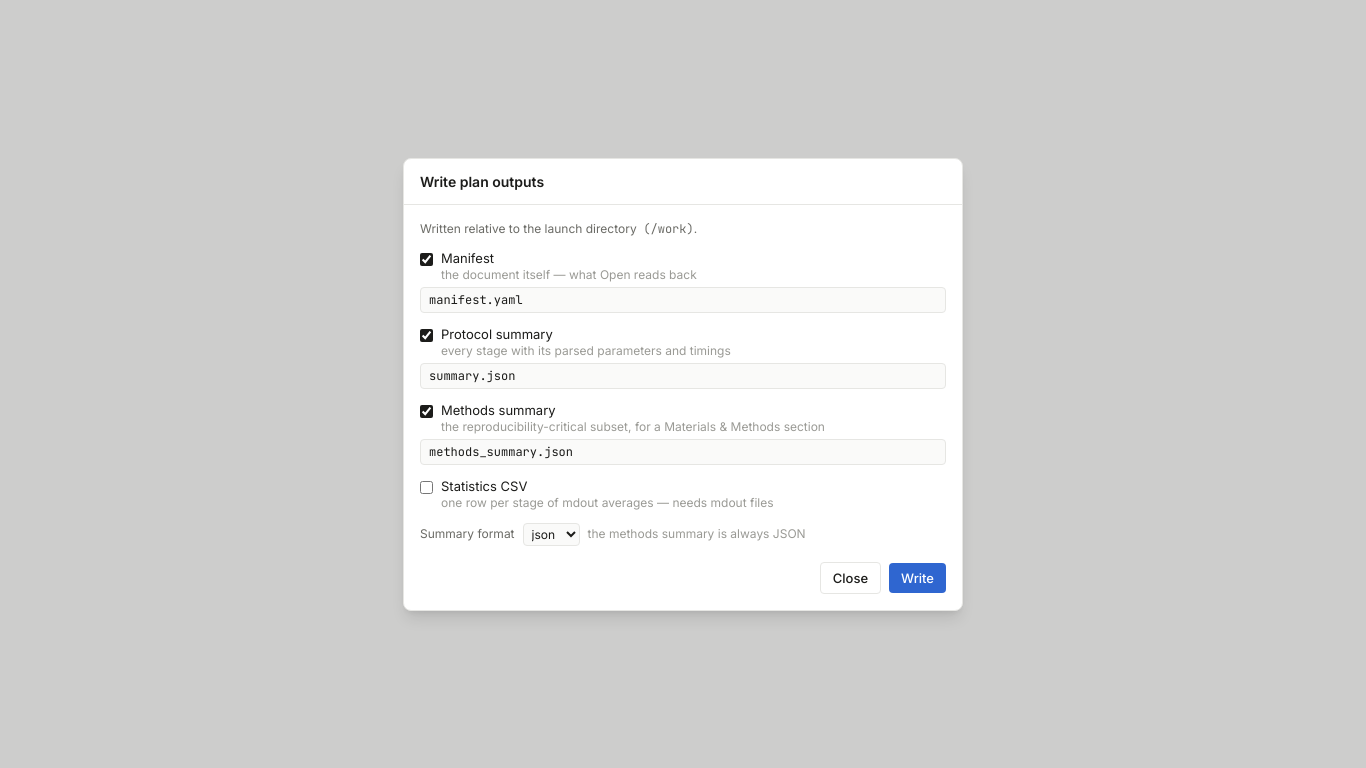
Test case: will not run while a ticked output has no filename, instead of dropping it silently
expect the dialog is shown: met, box [403,158,963,610]
Click the checkbox labelled "Statistics CSV" at (426, 487), box [420,480,433,494]
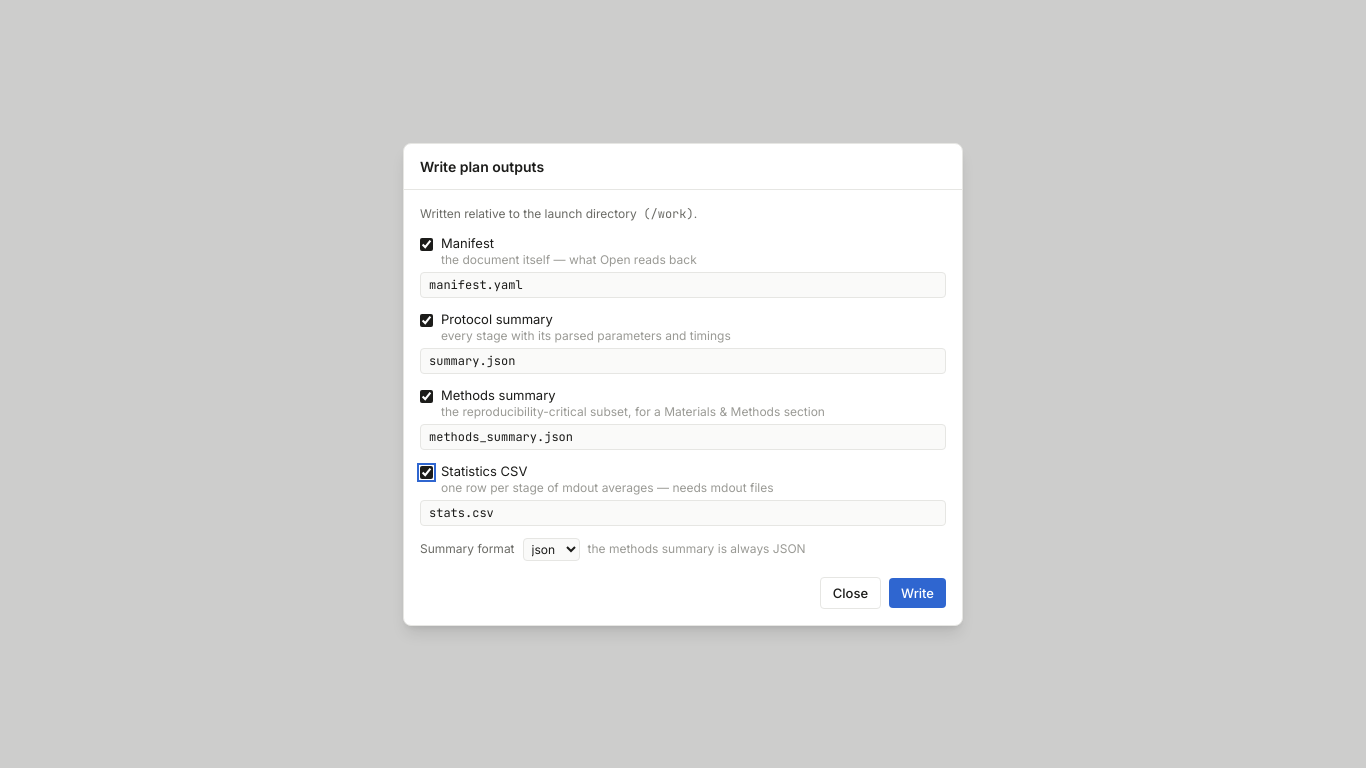
Clear the field named "Statistics CSV path" at (683, 512), box [420,500,946,526]
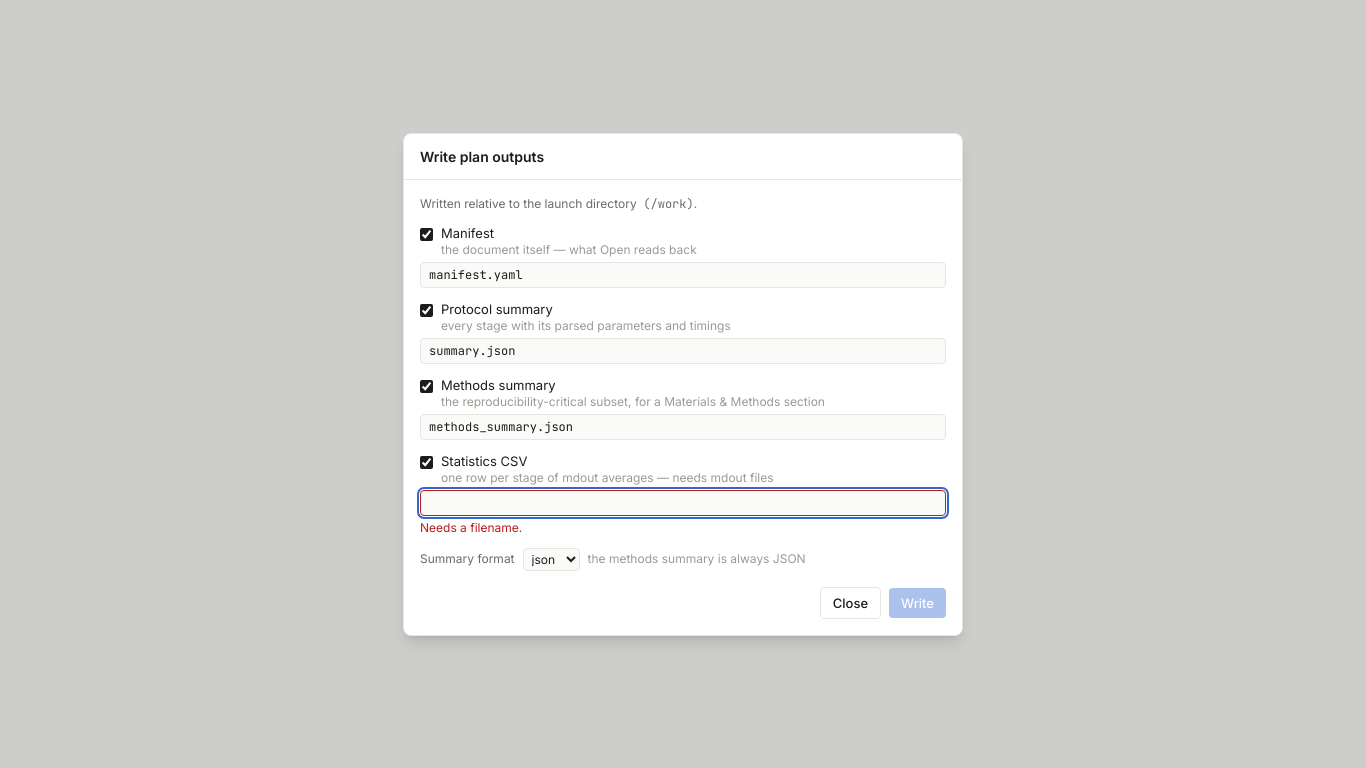
expect the button "Write" is disabled: met, box [889,588,946,618]
expect the text "Needs a filename." is shown: met, box [420,520,522,534]
